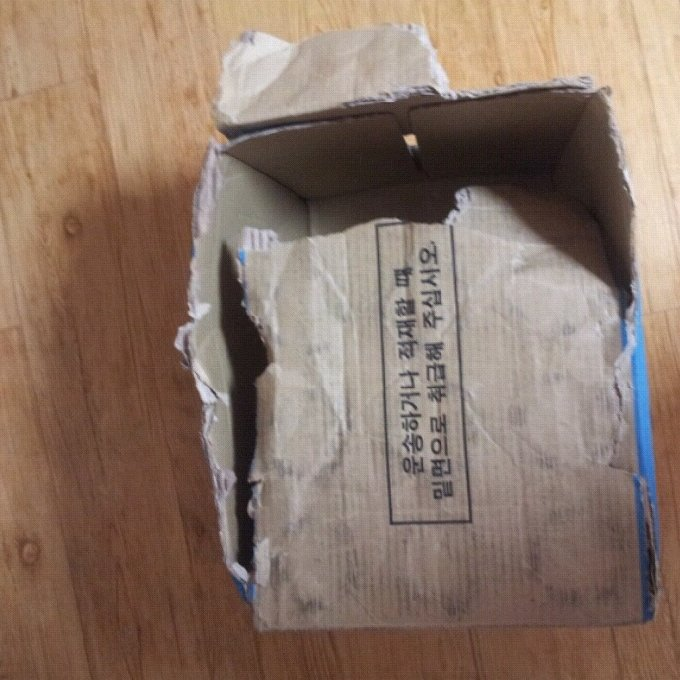damaged package: (232, 76, 641, 317), (181, 140, 290, 612), (219, 18, 452, 119), (616, 273, 663, 602)
